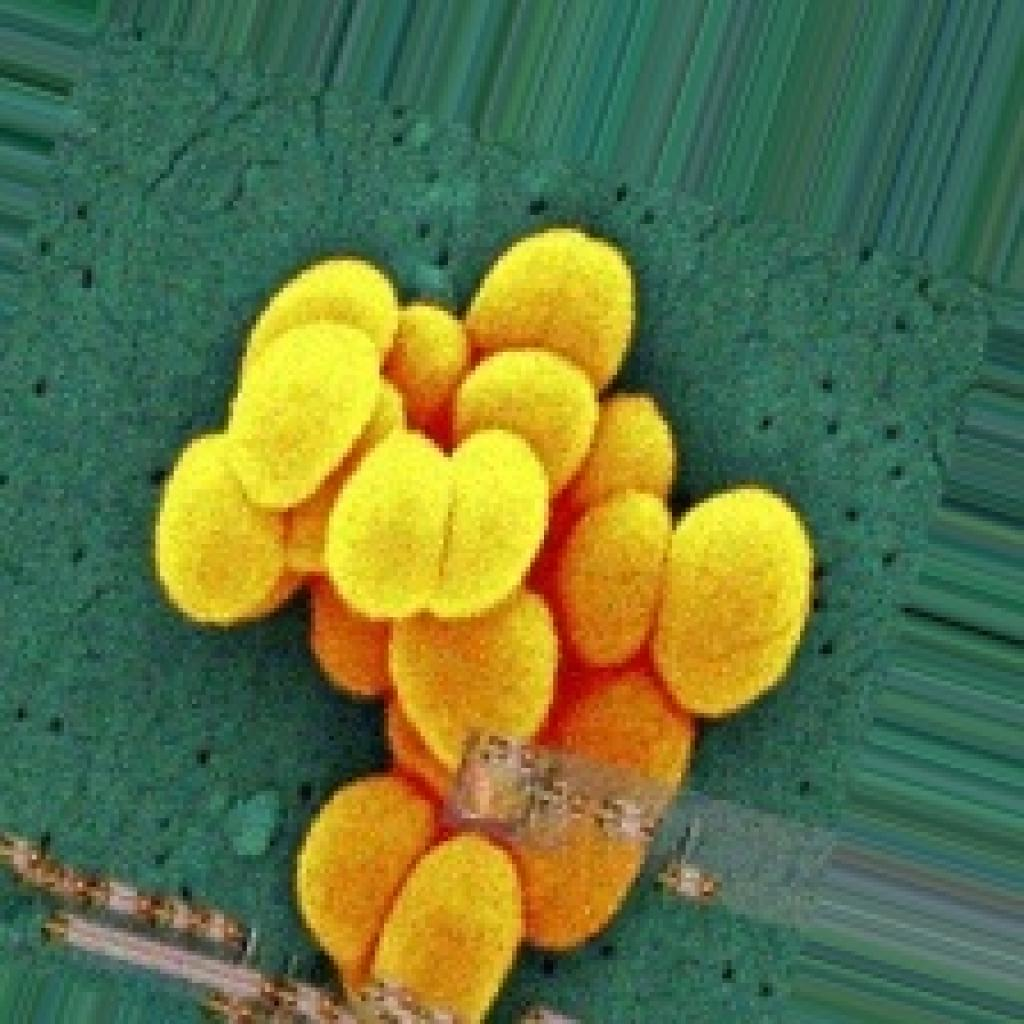Sphericalbacteria: (146, 220, 818, 1020)
